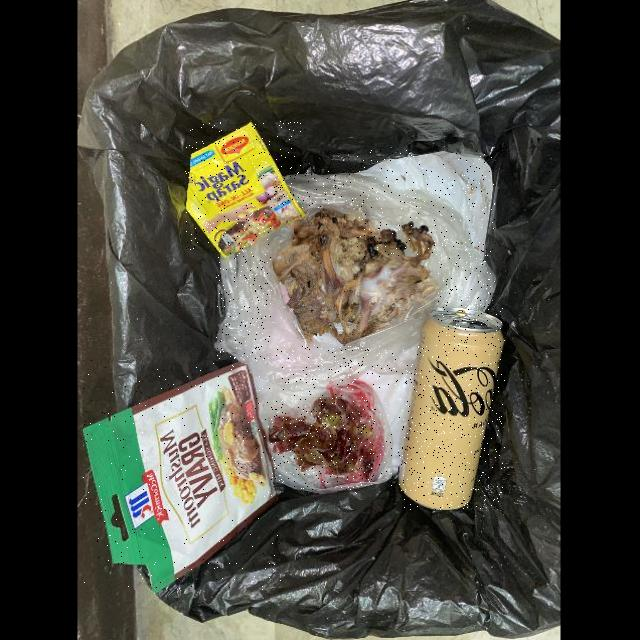biowaste: (272, 208, 438, 345), (270, 398, 375, 481)
metal: (399, 306, 505, 509)
plastic: (216, 171, 495, 384), (259, 378, 393, 494), (358, 150, 493, 256)
wrapper: (84, 360, 282, 590), (186, 121, 305, 256)
